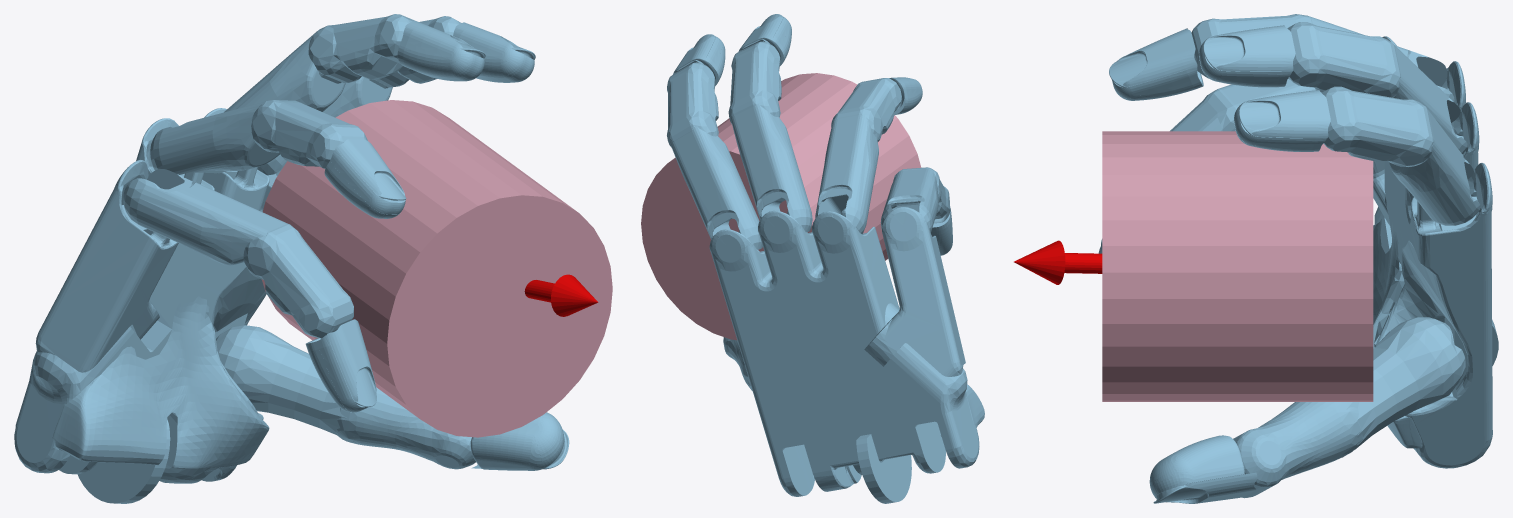
The picture shows the model from 3 angles, left to right: view 1: azimuth 30°, elevation 25°; view 2: azimuth 150°, elevation 25°; view 3: azimuth 270°, elevation 25°; orthographic projection. The views are drawn at different scales.
Parts seen in each view (by area): view 1: world, cylinder_medium.stl; view 2: world, cylinder_medium.stl; view 3: world, cylinder_medium.stl.
Boxes of the visible parts, x1,y1,x2,y2 form: world: [14, 14, 598, 503]; cylinder_medium.stl: [261, 100, 612, 437]; world: [667, 14, 984, 503]; cylinder_medium.stl: [641, 73, 921, 340]; world: [1014, 14, 1498, 503]; cylinder_medium.stl: [1102, 131, 1373, 401].
Size of the model in its own units: 0.1556 by 0.1642 by 0.1433.
